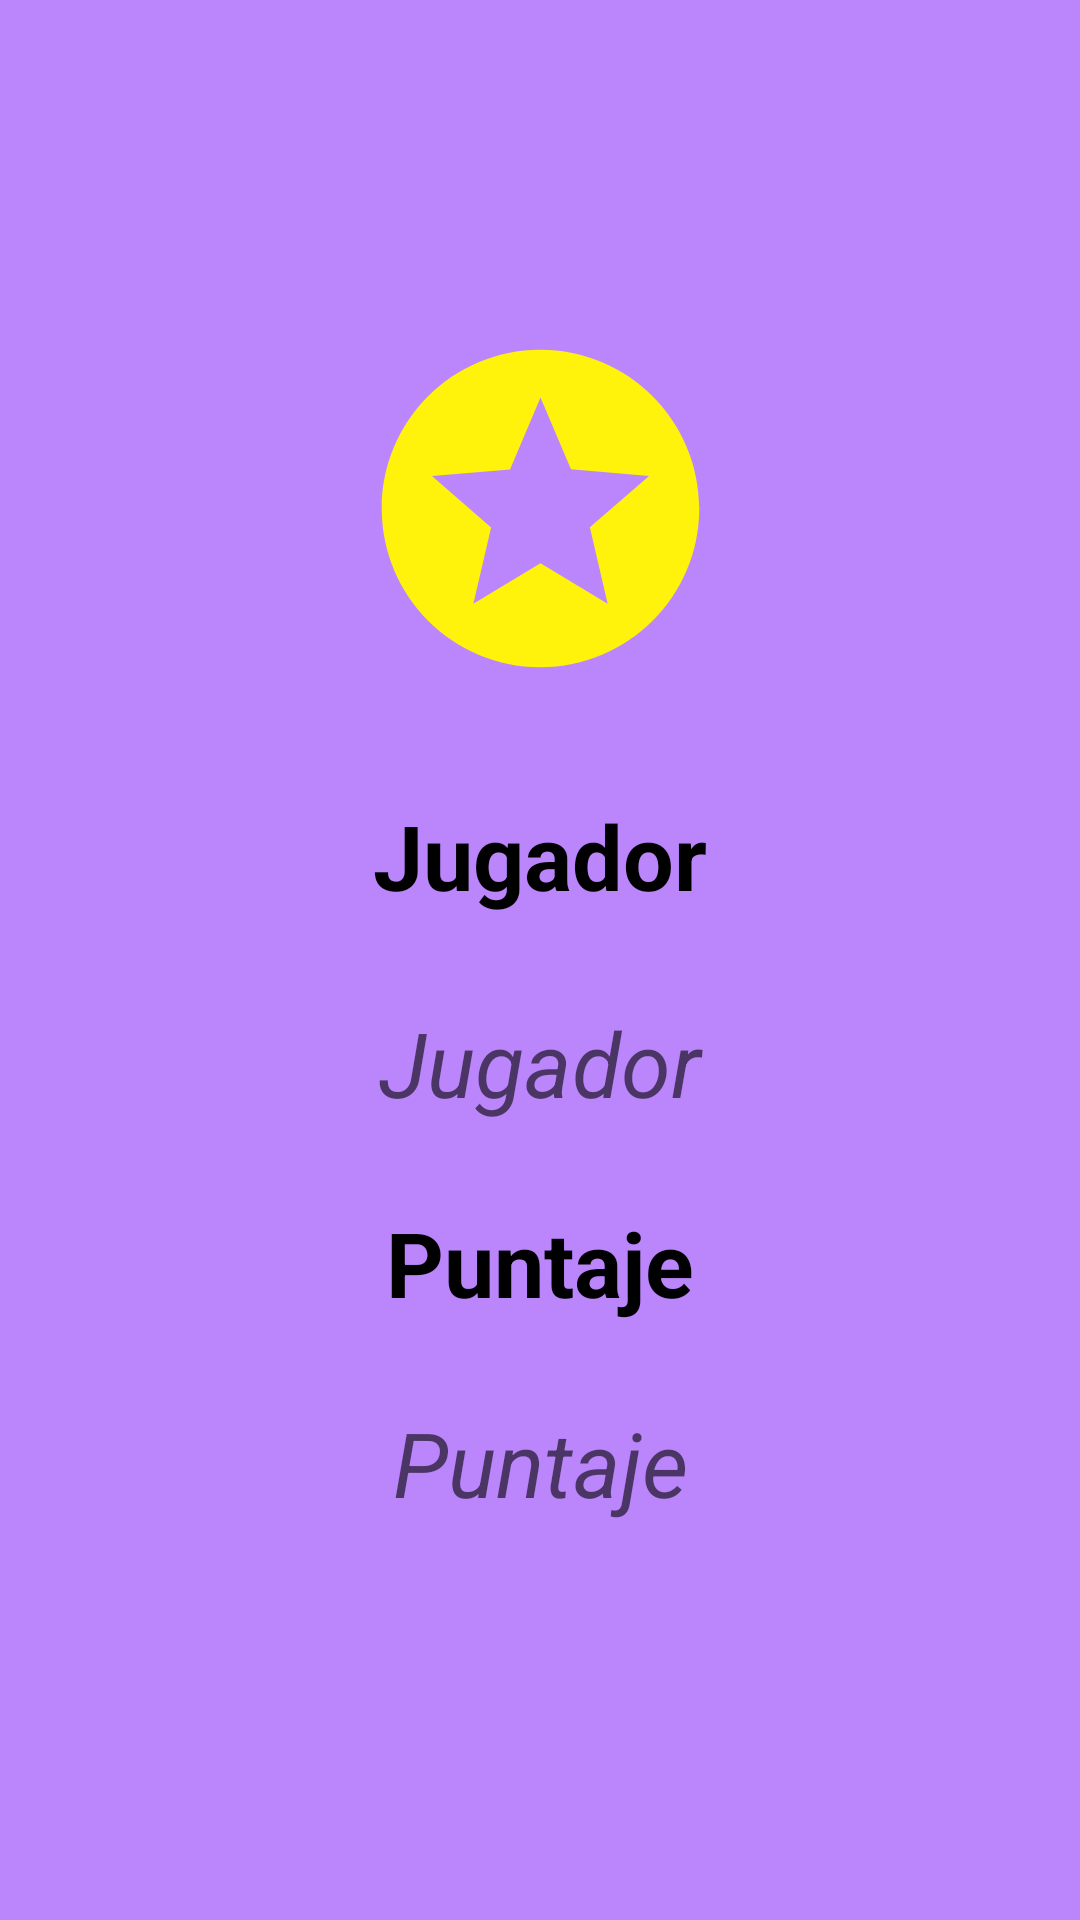

Icon click points for this 1080 x 1920 phone screenshot, format (x=x, y=y):
estrella: (x=540, y=508)
